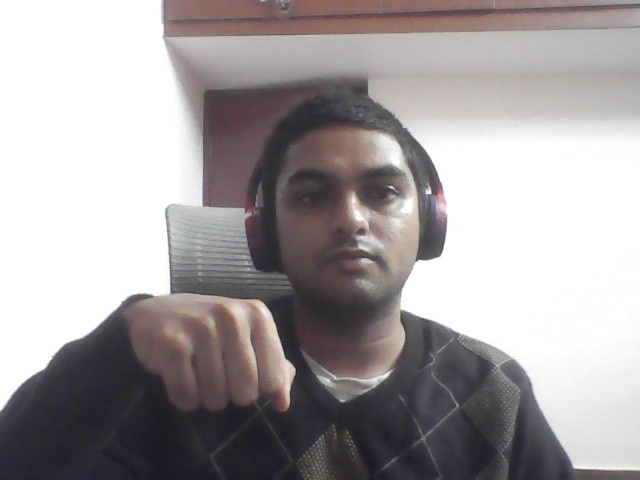Yes: (92, 253, 304, 441)
